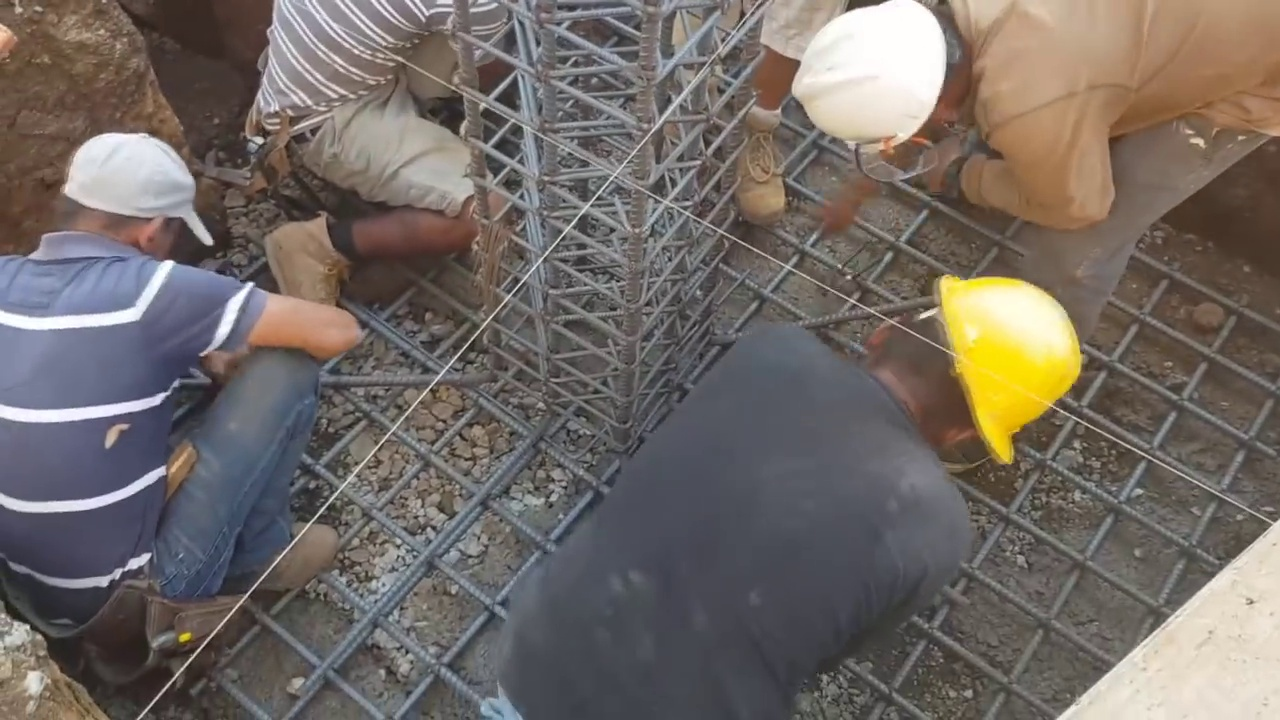helmet: (792, 0, 950, 150)
helmet-off: (47, 129, 199, 265)
helmet-on: (859, 275, 1092, 468), (792, 4, 986, 156), (940, 281, 1090, 468)
person: (484, 279, 1093, 720), (1, 130, 367, 685), (792, 8, 1278, 354), (241, 0, 550, 306), (652, 9, 810, 234)
